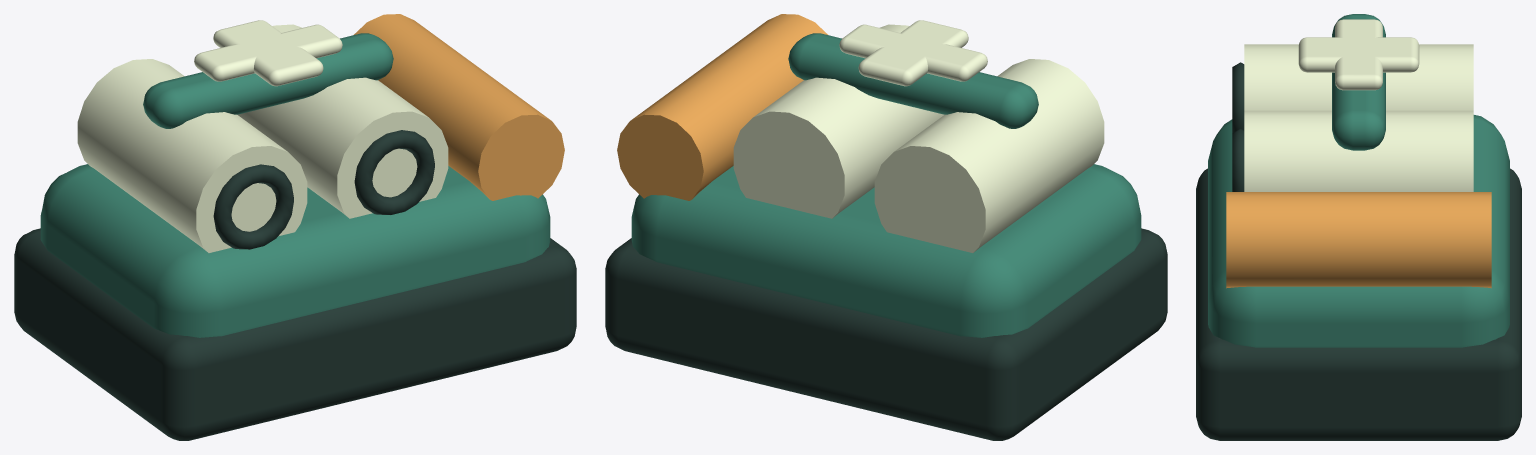
File: recovery-med.glb
The picture shows the model from 3 angles, left to right: view 1: azimuth 30°, elevation 25°; view 2: azimuth 150°, elevation 25°; view 3: azimuth 270°, elevation 25°; orthographic projection. The views are drawn at different scales.
Parts seen in each view (by area): view 1: ground-med; view 2: ground-med; view 3: ground-med.
Boxes of the visible parts, x1,y1,x2,y2 form: ground-med: (14,14,576,440); ground-med: (605,14,1167,440); ground-med: (1196,14,1521,440).
Size of what is drawn, in the model's own units: 0.38 by 0.267 by 0.27.
